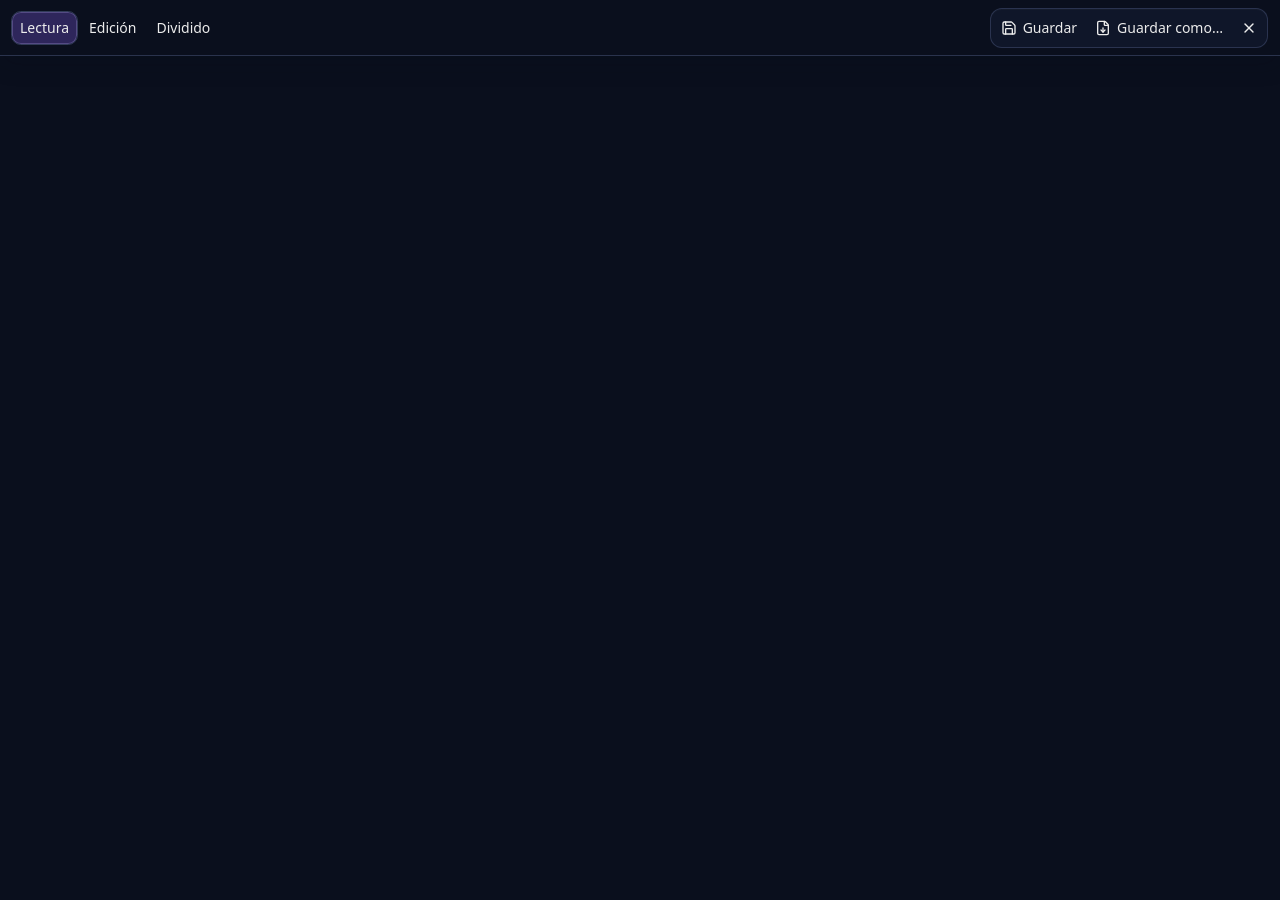
Scenario: Guardar como… (Fase 17) › es un diálogo con nombre, formato y colores agrupados, sin violaciones de axe
Click the button "Guardar como…" at (1159, 28), box [1087,12,1231,44]
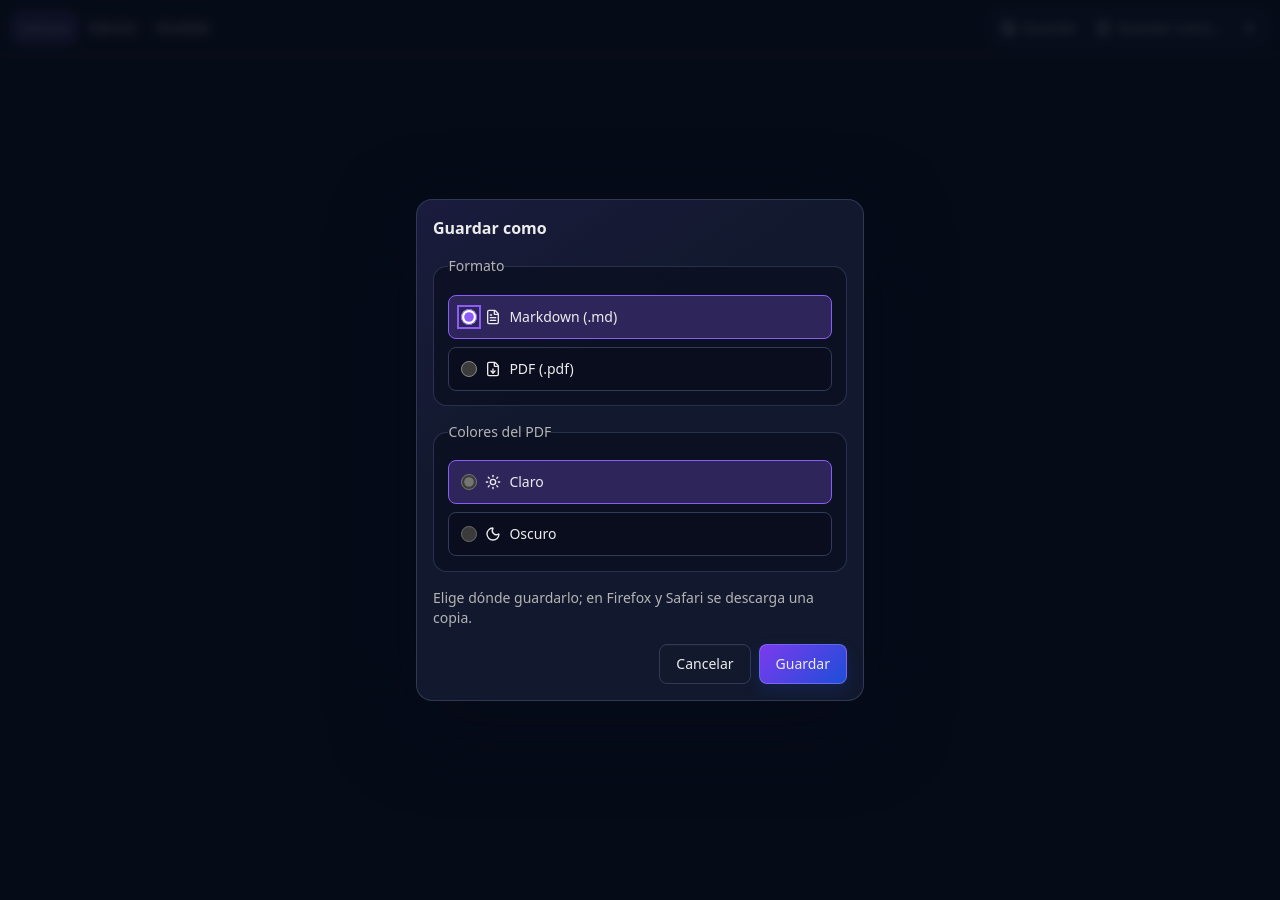
Check: the element "Formato" is shown, box [433,256,847,406]
Check: the radio button labelled "Markdown (.md)" is checked, box [461,309,477,325]
Check: the radio button labelled "Claro" is disabled, box [461,474,477,490]
